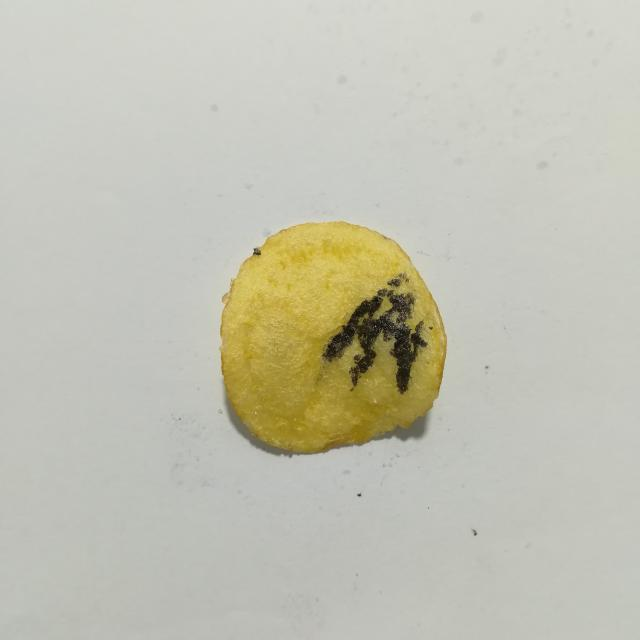chip: (220, 222, 446, 453)
damaged: (322, 289, 427, 394), (387, 273, 409, 287), (253, 247, 261, 255), (429, 326, 433, 330)
